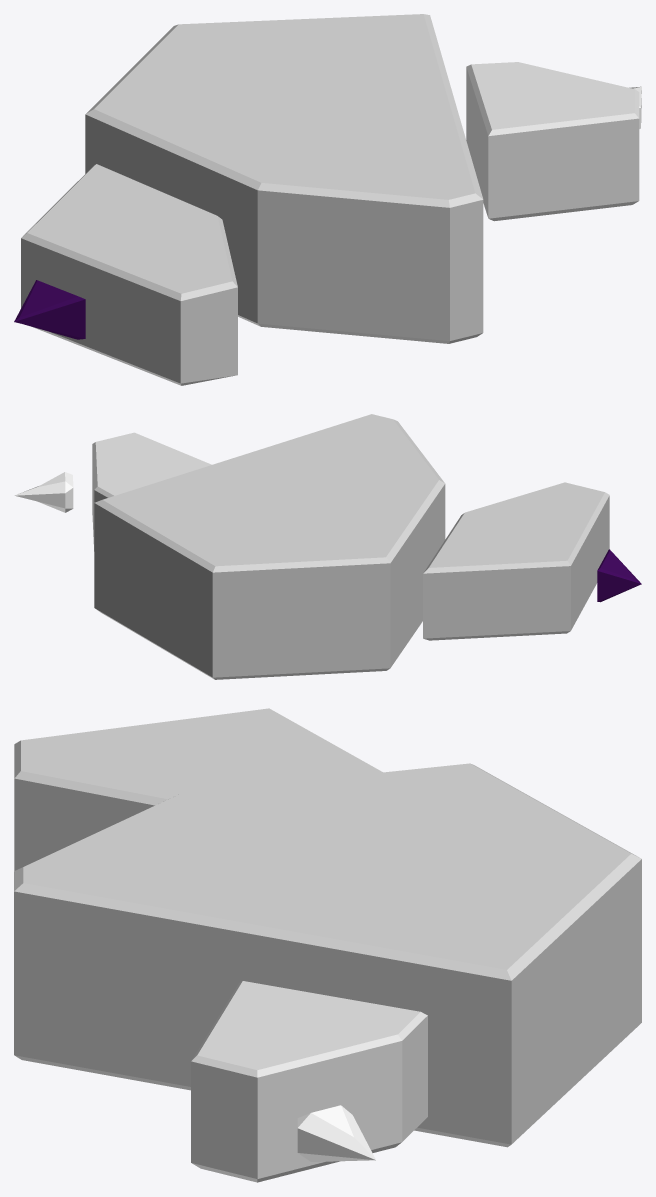
The model's file is rhino.glb.
3 views of the same model, one above another, from view 1: azimuth 30°, elevation 25°; view 2: azimuth 150°, elevation 25°; view 3: azimuth 270°, elevation 25° (orthographic). The views are drawn at different scales.
Visible parts, largest first — view 1: body, bot, head, tail; view 2: body, bot, head, tail, horn; view 3: body, head, bot, horn.
Part boxes in pixels (box(x1,y1,x2,y2)): body: box(85, 14, 483, 343); bot: box(21, 164, 237, 385); head: box(466, 62, 639, 221); tail: box(14, 280, 85, 339); body: box(94, 414, 445, 679); bot: box(423, 482, 609, 640); head: box(92, 432, 211, 551); tail: box(597, 549, 641, 602); horn: box(14, 472, 73, 512); body: box(14, 763, 641, 1147); head: box(191, 981, 427, 1182); bot: box(14, 708, 382, 870); horn: box(297, 1105, 375, 1161).
Bounding box in the file's own units: 3.22 × 0.62 × 2.
